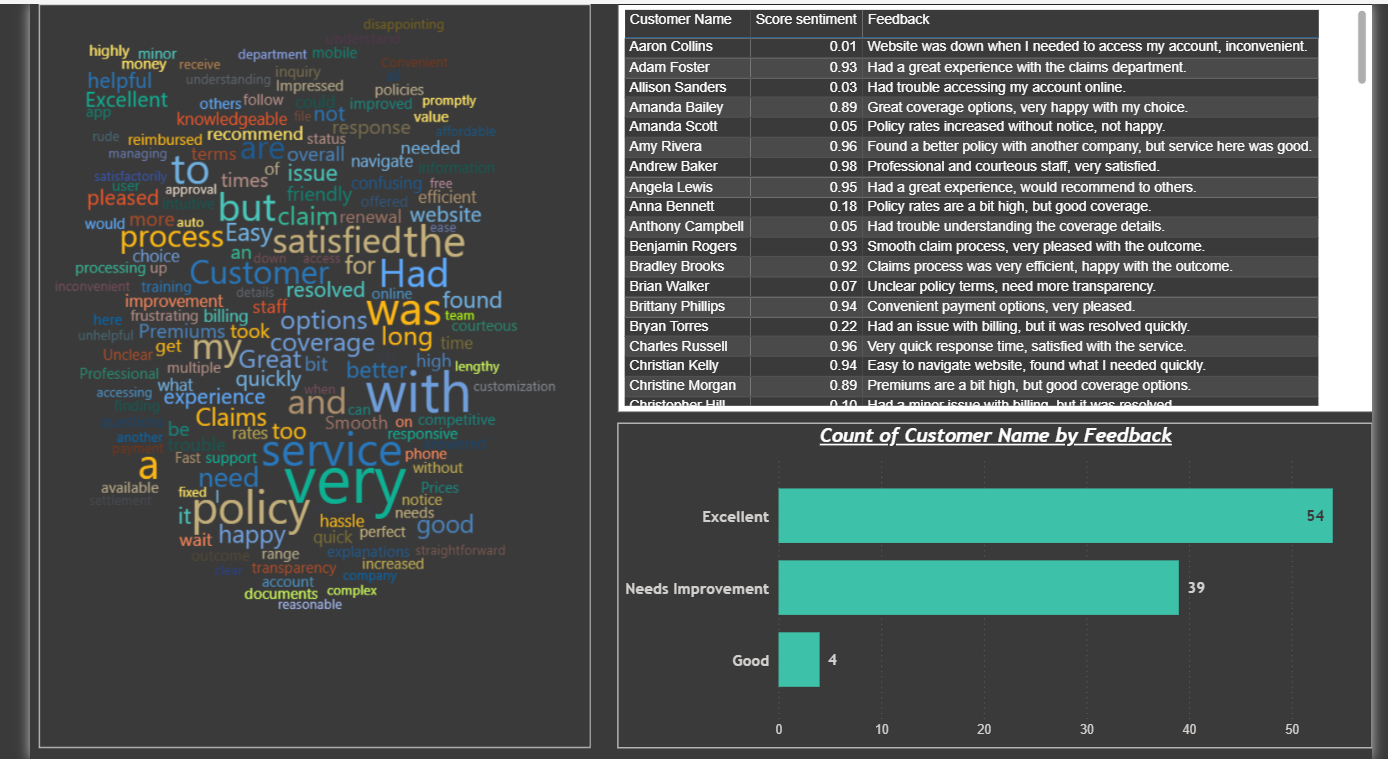

Layout of this report page (visuals, bound fields, positions):
{"tool":"powerbi","page":{"name":"Page 3","canvas":[1280,720],"ordinal":2},"visuals":[{"type":"WordCloud1447959067750","fields":{"Category":["Sheet1.Feedback"],"Values":["CountNonNull(Sheet1.Feedback)"]},"box":[8.8,0,501.1,668.1],"z":0},{"type":"barChart","title":"Count of Customer Name by Feedback","fields":{"Category":["Sheet1.Good/Improvement"],"Y":["CountNonNull(Sheet1.Customer Name)"]},"box":[559.7,410.3,720.9,310.6],"z":1},{"type":"tableEx","fields":{"Values":["Sheet1.Customer Name","Sheet1.Score sentiment","Sheet1.Feedback"]},"box":[559.7,0,720.9,389.7],"z":2}]}

Visuals, with their boxes in screenshot pixels (x1, y1, x2, y2), scaled from the page's 1280x720 canvas onto the 1388x759 screenshot:
WordCloud1447959067750 - Sheet1.Feedback x CountNonNull(Sheet1.Feedback): 10/0/553/704
"Count of Customer Name by Feedback" barChart: 607/433/1387/758
tableEx - Sheet1.Customer Name x Sheet1.Score sentiment: 607/0/1387/411
